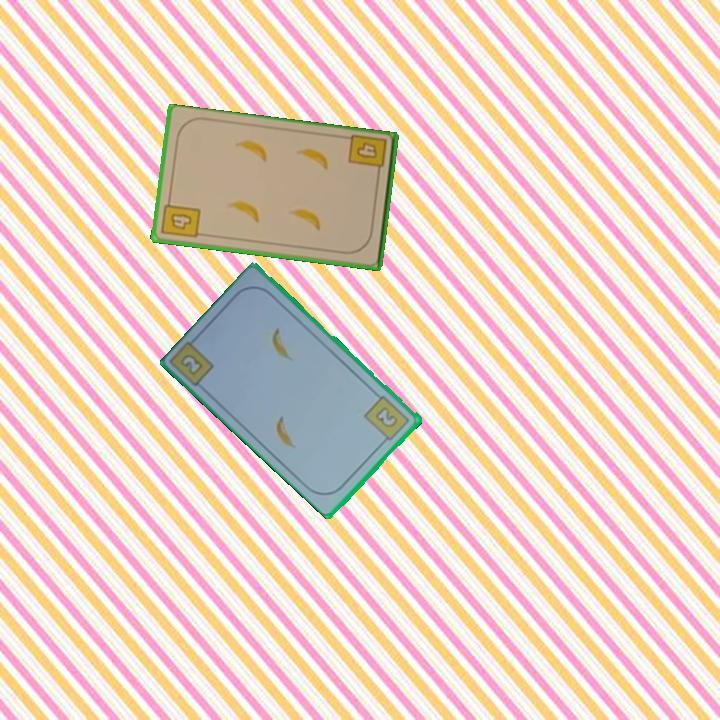2b: (361, 392, 413, 447), (177, 350, 206, 378)
4b: (345, 132, 390, 180), (158, 195, 203, 241)
